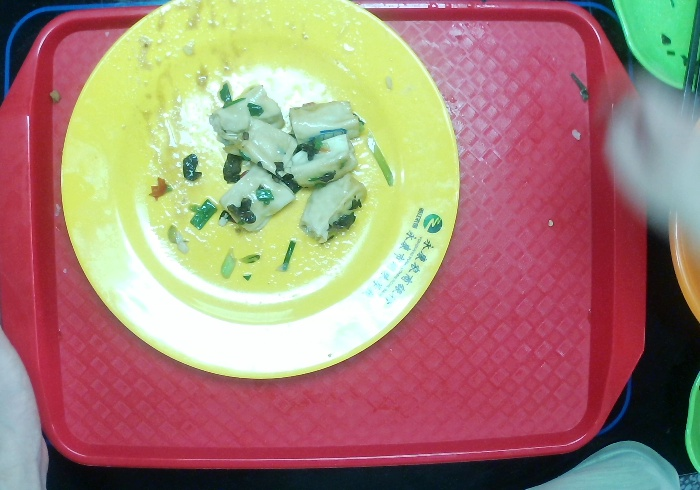YKMZ-Huang_Se_Mian_Pan: (60, 1, 460, 382)
